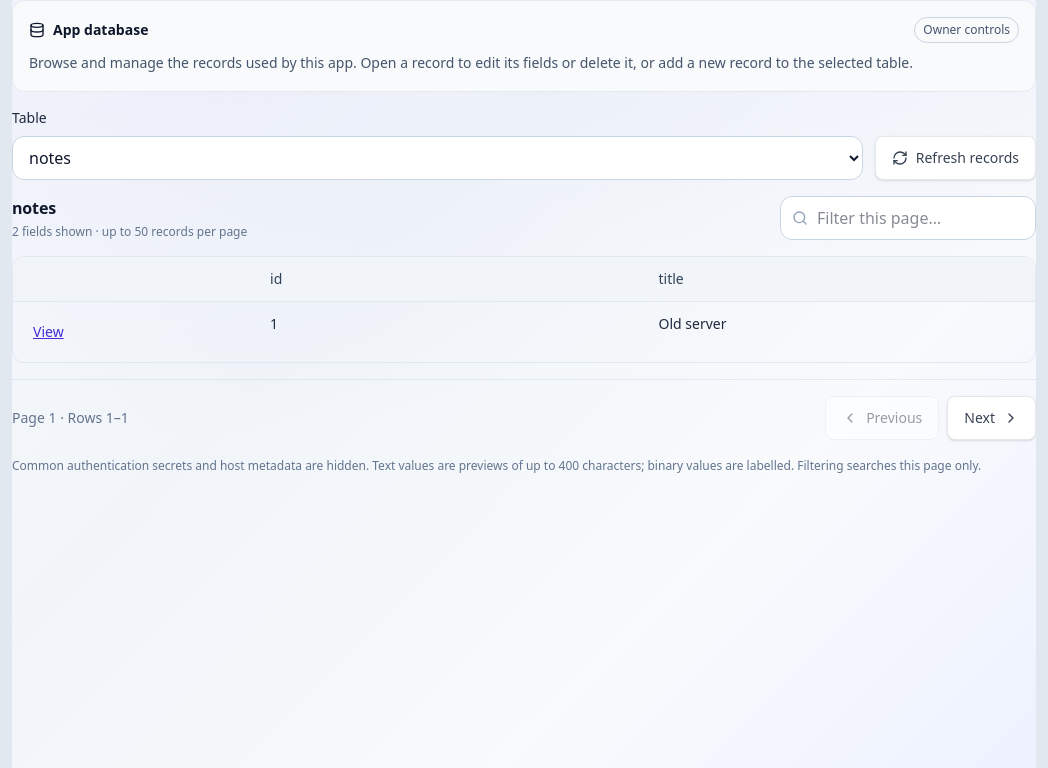
Test case: keeps working with an older server that only sends hasMore
Click the button "Next" at point(992, 418), box [947,396,1036,440]
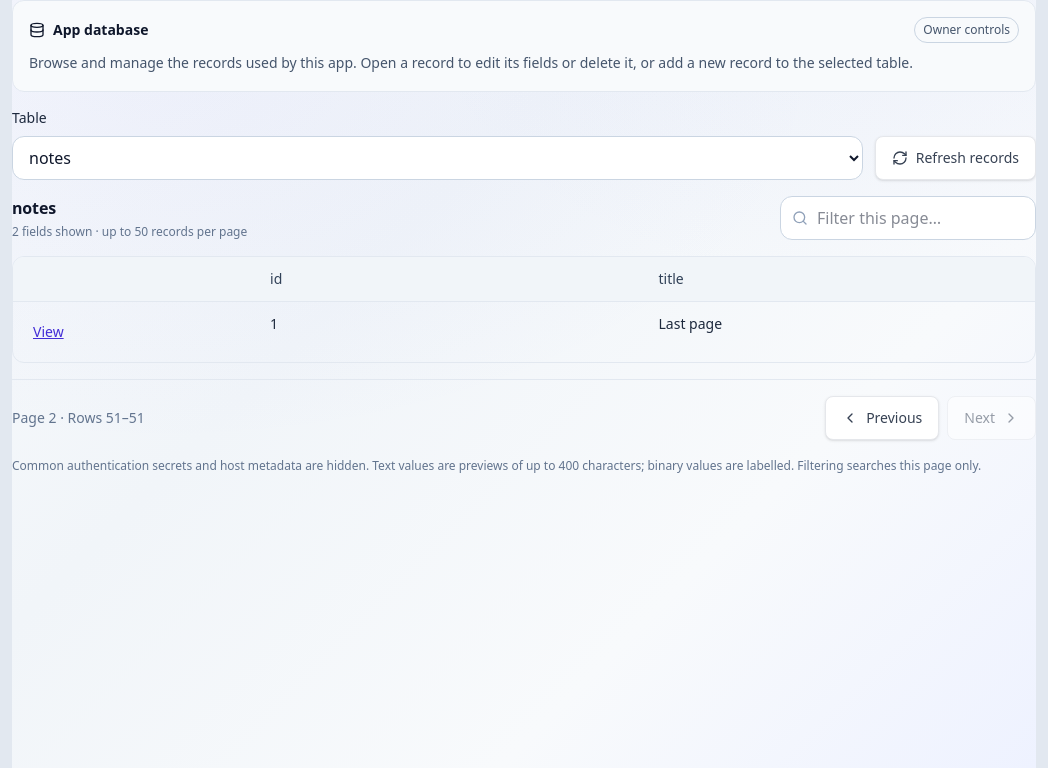
Check: the text "Page 2" is shown, box [12,408,145,428]
Check: the button "Next" is disabled, box [947,396,1036,440]
